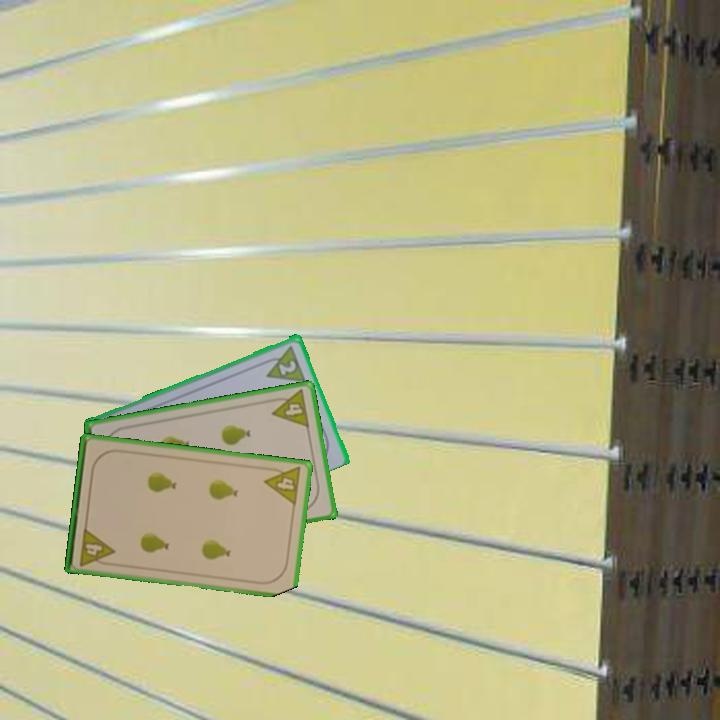2p: (275, 356, 299, 378)
4p: (266, 386, 312, 430), (261, 463, 304, 508), (76, 524, 117, 569)
